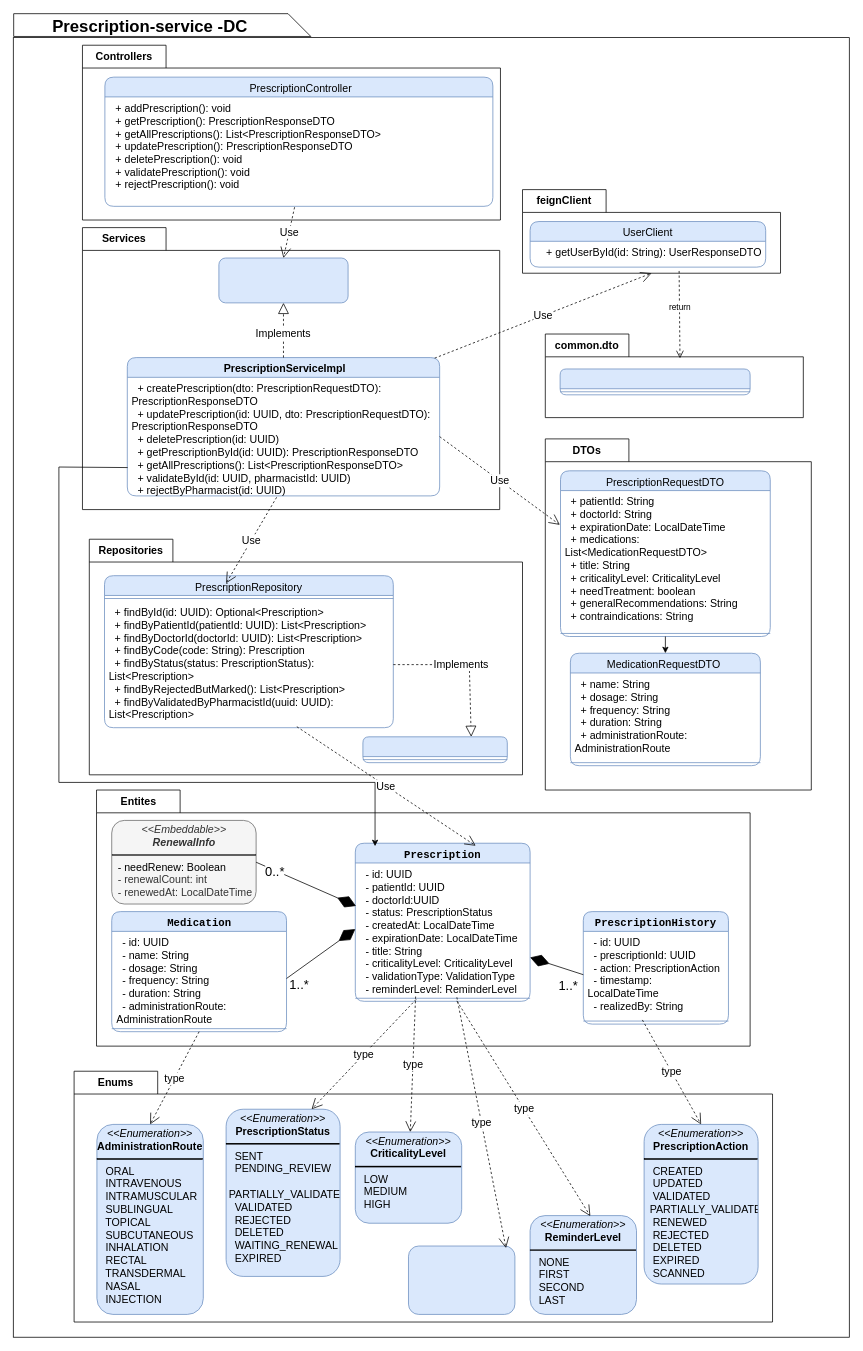
Image size: 863x1351. Some labels were removed from this diagram. Each missing label, with the centre of its shape:
"<<Enumeration>> ValidationType FULL PARTIAL" goes at [461,1279].
"JpaRepository" goes at [434,749].
"UserResponseDTO" goes at [654,381].
"«interface» PrescriptionService" goes at [283,280].
